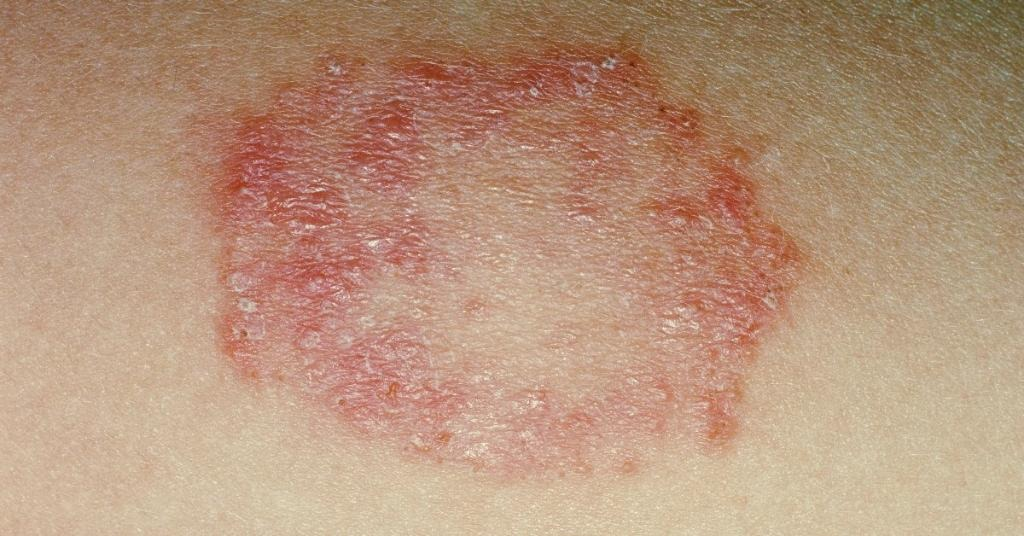Ringworm: (191, 37, 810, 480)
